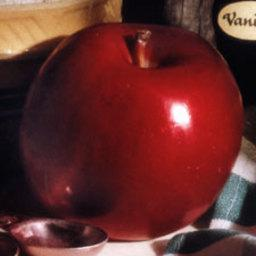apple: (17, 22, 243, 236)
